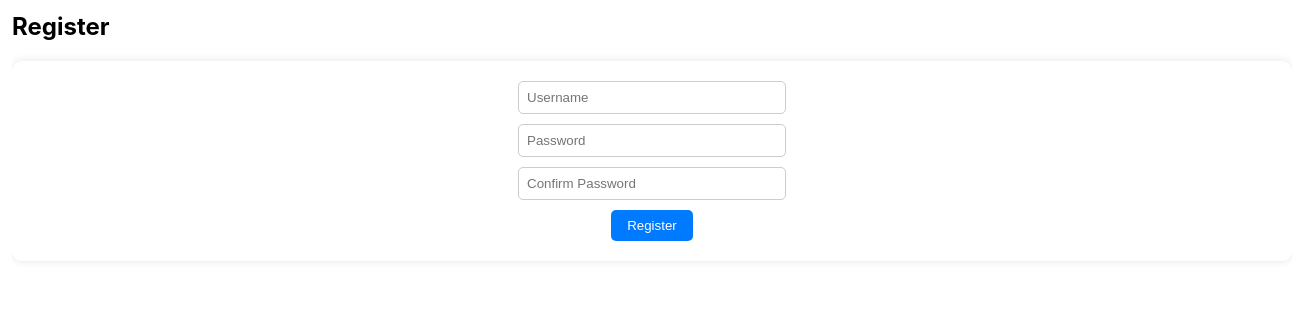
Test: Register Component › displays error if registration fails
Type "testuser" into the field with placeholder "Username" at (652, 97), box [518,81,786,114]
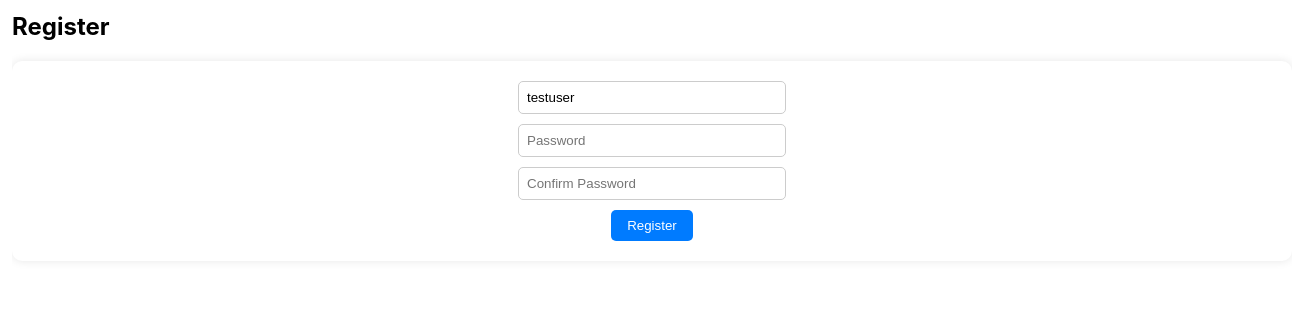
Type "password" into the password field with placeholder "Password" at (652, 140), box [518,124,786,157]
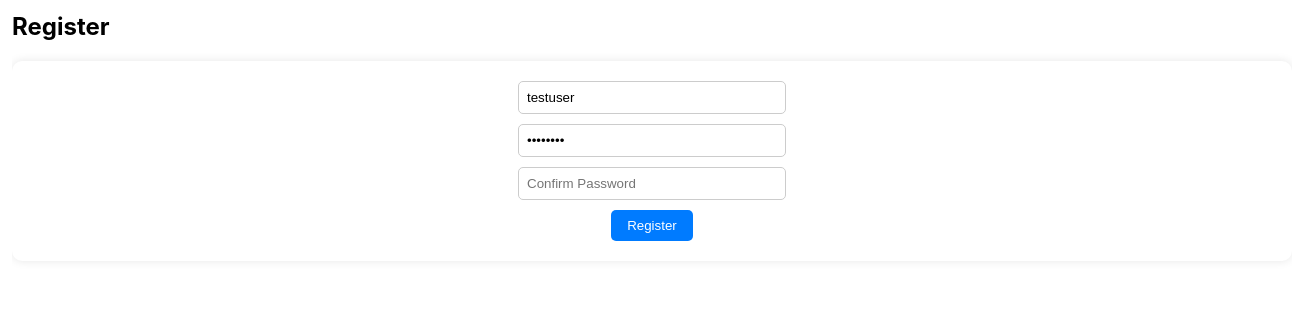
Type "password" into the password field with placeholder "Confirm Password" at (652, 183), box [518,167,786,200]
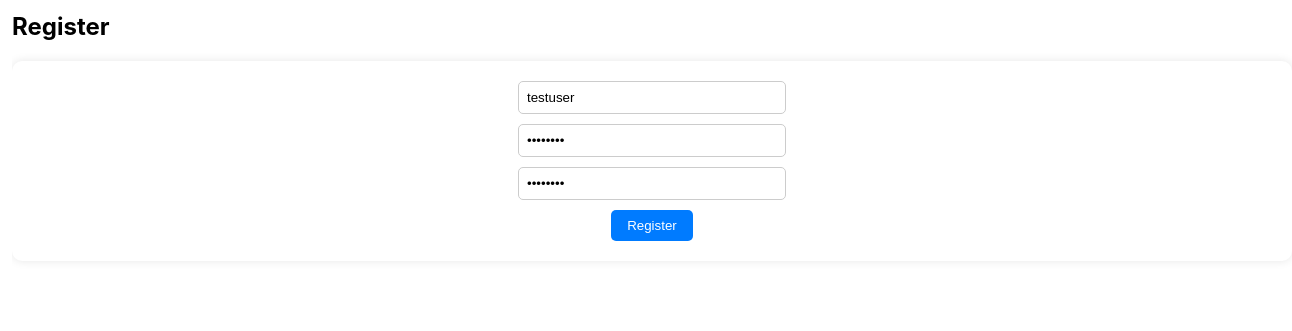
Click the button with test id "button-register" at (652, 225), box [611,210,693,241]
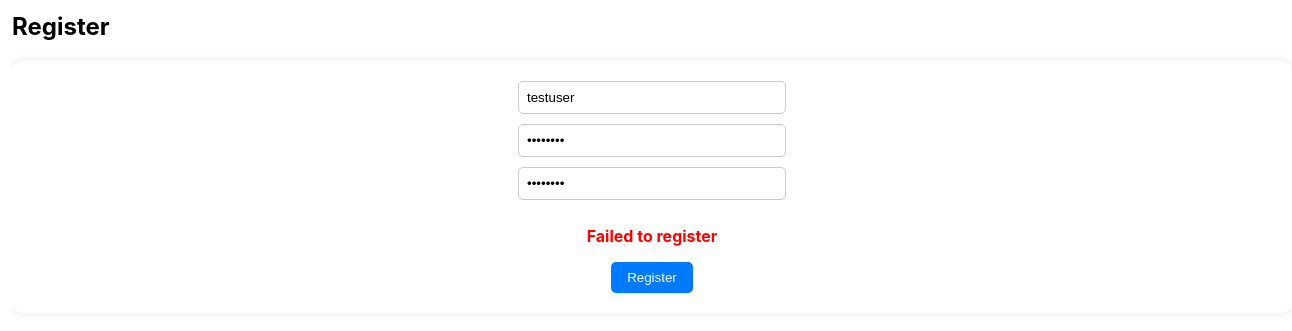
Expected: the text "Failed to register" is shown, [587,226,717,246]
